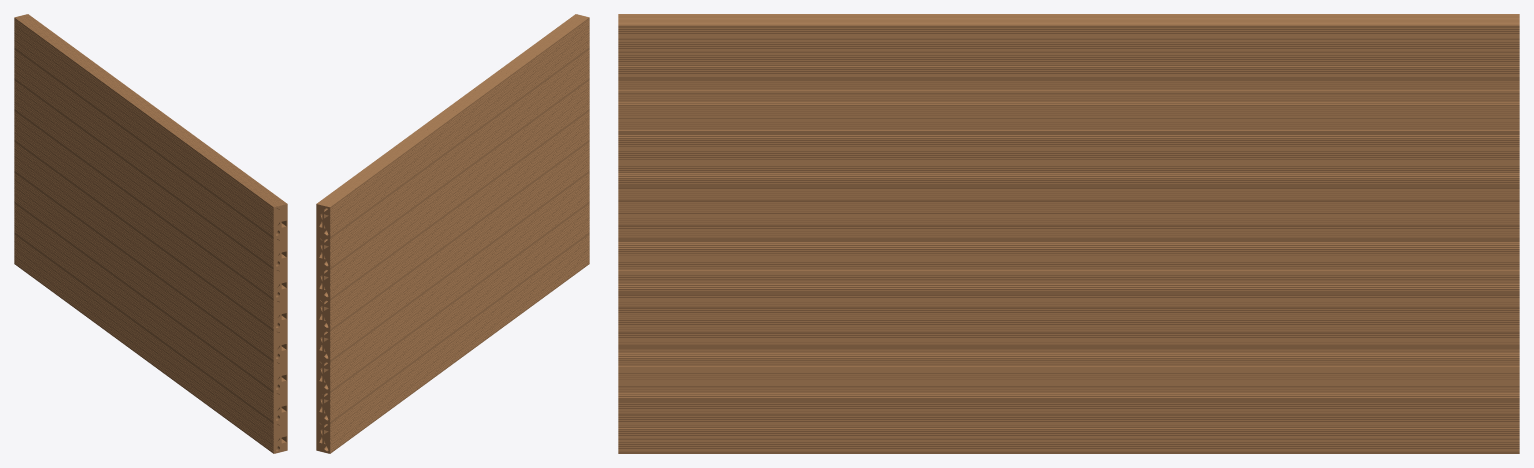
File: brick-wall-290cmx-9cm-190cm.fbx
3 renders of one model, left to right at view 1: azimuth 30°, elevation 25°; view 2: azimuth 150°, elevation 25°; view 3: azimuth 270°, elevation 25°, orthographic. The views are drawn at different scales.
Parts seen in each view (by area): view 1: 1-Tijolo.345, 1-Tijolo.207, 1-Tijolo.069, 1-Tijolo.161, 1-Tijolo.253, 1-Tijolo.299, 1-Tijolo.023, 1-Tijolo.115, 1-Tijolo.074, 1-Tijolo.008, 1-Tijolo.016, 1-Tijolo.025 (+68 smaller); view 2: 1-Tijolo.074, 1-Tijolo.071, 1-Tijolo.067, 1-Tijolo.070, 1-Tijolo.072, 1-Tijolo.073, 1-Tijolo.066, 1-Tijolo.068, 1-Tijolo.345, 1-Tijolo.008, 1-Tijolo.049, 1-Tijolo.057 (+68 smaller); view 3: 1-Tijolo.008, 1-Tijolo.065, 1-Tijolo.016, 1-Tijolo.025, 1-Tijolo.049, 1-Tijolo.057, 1-Tijolo.074, 1-Tijolo.345, 1-Tijolo.033, 1-Tijolo.041, 1-Tijolo.001, 1-Tijolo.002 (+68 smaller).
Boxes of the visible parts, <box> form: 1-Tijolo.345: <box>248,185,287,237</box>; 1-Tijolo.207: <box>248,281,287,330</box>; 1-Tijolo.069: <box>248,373,287,422</box>; 1-Tijolo.161: <box>248,312,287,361</box>; 1-Tijolo.253: <box>248,250,287,299</box>; 1-Tijolo.299: <box>248,219,287,268</box>; 1-Tijolo.023: <box>248,404,287,453</box>; 1-Tijolo.115: <box>248,343,287,392</box>; 1-Tijolo.074: <box>14,14,53,66</box>; 1-Tijolo.008: <box>222,166,261,218</box>; 1-Tijolo.016: <box>196,147,235,199</box>; 1-Tijolo.025: <box>170,128,209,180</box>; 1-Tijolo.074: <box>316,185,355,237</box>; 1-Tijolo.071: <box>316,281,355,330</box>; 1-Tijolo.067: <box>316,373,355,422</box>; 1-Tijolo.070: <box>316,312,355,361</box>; 1-Tijolo.072: <box>316,250,355,299</box>; 1-Tijolo.073: <box>316,219,355,268</box>; 1-Tijolo.066: <box>316,404,355,453</box>; 1-Tijolo.068: <box>316,343,355,392</box>; 1-Tijolo.345: <box>550,14,589,66</box>; 1-Tijolo.008: <box>524,33,563,85</box>; 1-Tijolo.049: <box>394,128,433,180</box>; 1-Tijolo.057: <box>368,147,407,199</box>; 1-Tijolo.008: <box>708,14,798,79</box>; 1-Tijolo.065: <box>1339,14,1429,79</box>; 1-Tijolo.016: <box>798,14,888,79</box>; 1-Tijolo.025: <box>888,14,978,79</box>; 1-Tijolo.049: <box>1159,14,1249,79</box>; 1-Tijolo.057: <box>1249,14,1339,79</box>; 1-Tijolo.074: <box>1429,14,1519,79</box>; 1-Tijolo.345: <box>618,14,708,79</box>; 1-Tijolo.033: <box>979,14,1068,79</box>; 1-Tijolo.041: <box>1069,14,1158,79</box>; 1-Tijolo.001: <box>708,400,798,453</box>; 1-Tijolo.002: <box>708,347,798,400</box>.
Bounding box in the file's own units: 9 × 152 × 290.
